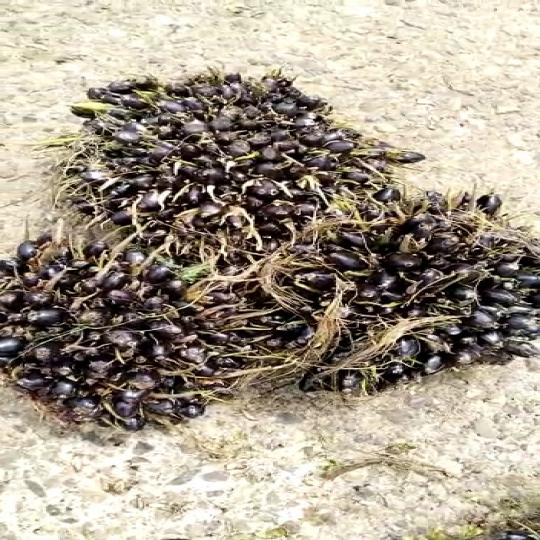mentah: (66, 60, 380, 276), (0, 209, 297, 435), (245, 185, 540, 395)
